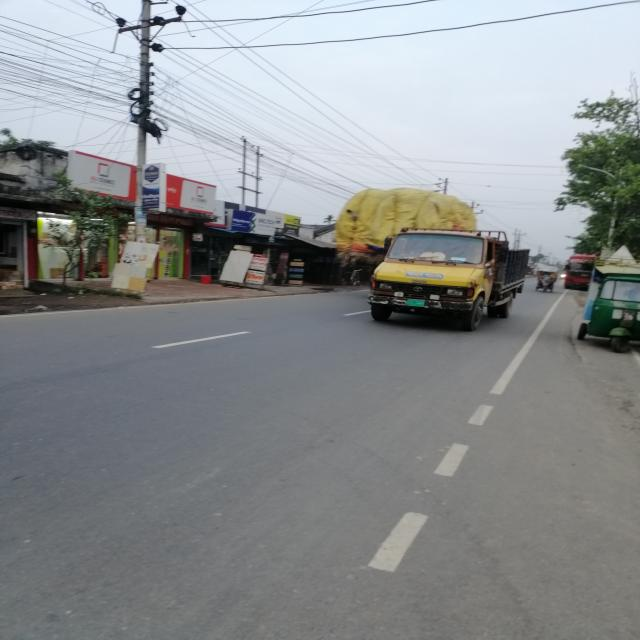Pick-up-van: (355, 216, 536, 346)
